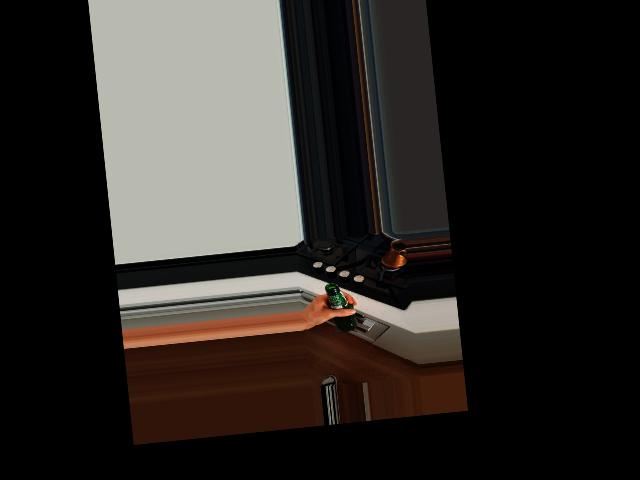beer: (324, 281, 357, 333)
